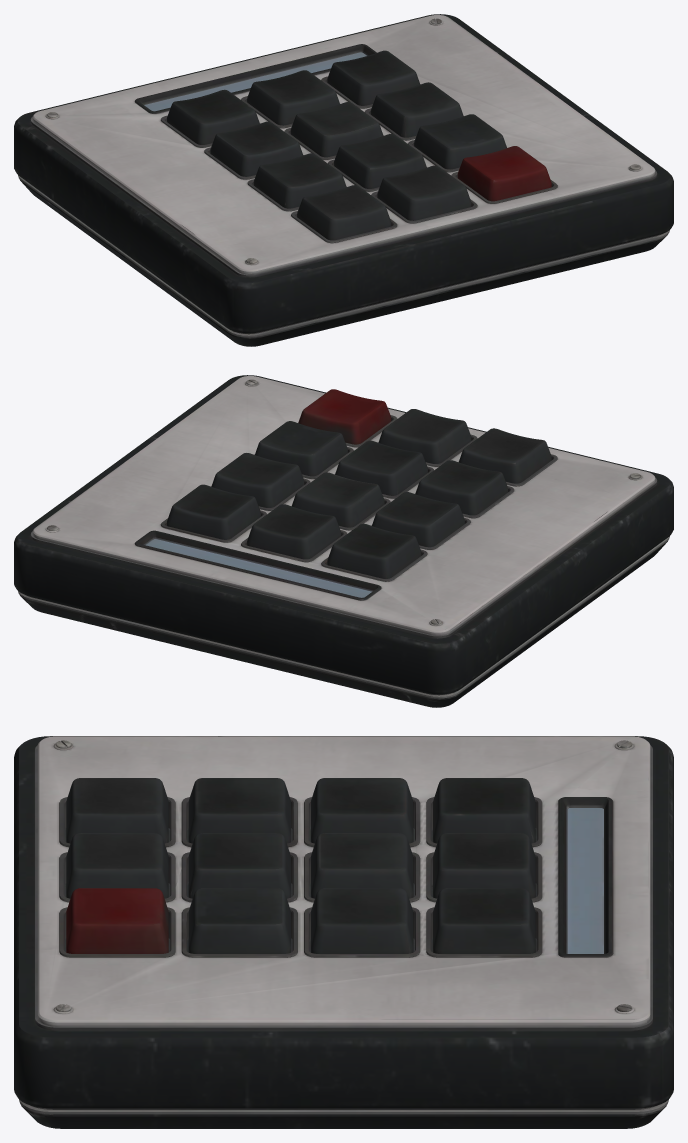
The model's file is tastierino.glb.
3 views of the same model, one above another, from view 1: azimuth 30°, elevation 25°; view 2: azimuth 150°, elevation 25°; view 3: azimuth 270°, elevation 25° (orthographic). The views are drawn at different scales.
Visible parts, largest first — view 1: Faceplate • linished aluminium, Upper shell • rolled shoulder and return flange, Lower pan • drawn steel, Key_10, Key_12, Key_11, Key_06, Key_03, Key_02, Key_09, Key_04, Key_07 (+8 smaller); view 2: Faceplate • linished aluminium, Upper shell • rolled shoulder and return flange, Lower pan • drawn steel, Key_01, Key_02, Key_03, Key_12, Key_05, Key_10, Key_09, Key_07, Key_08 (+8 smaller); view 3: Faceplate • linished aluminium, Upper shell • rolled shoulder and return flange, Lower pan • drawn steel, Key_03, Key_06, Key_12, Key_09, Key_05, Key_11, Key_08, Key_02, Key_07 (+21 smaller).
Part boxes in pixels (bbox=[...]): Faceplate • linished aluminium: bbox=[32, 15, 655, 274]; Upper shell • rolled shoulder and return flange: bbox=[14, 14, 673, 333]; Lower pan • drawn steel: bbox=[19, 179, 667, 346]; Key_10: bbox=[297, 185, 391, 240]; Key_12: bbox=[457, 146, 551, 201]; Key_11: bbox=[377, 165, 471, 220]; Key_06: bbox=[370, 82, 463, 137]; Key_03: bbox=[327, 50, 420, 105]; Key_02: bbox=[247, 70, 339, 125]; Key_09: bbox=[414, 114, 506, 169]; Key_04: bbox=[210, 121, 303, 176]; Key_07: bbox=[253, 153, 346, 208]; Faceplate • linished aluminium: bbox=[32, 376, 655, 635]; Upper shell • rolled shoulder and return flange: bbox=[14, 375, 673, 694]; Lower pan • drawn steel: bbox=[20, 540, 668, 707]; Key_01: bbox=[327, 523, 421, 578]; Key_02: bbox=[247, 504, 341, 559]; Key_03: bbox=[167, 484, 260, 539]; Key_12: bbox=[298, 389, 391, 444]; Key_05: bbox=[292, 472, 384, 527]; Key_10: bbox=[459, 428, 551, 483]; Key_09: bbox=[255, 421, 347, 476]; Key_07: bbox=[415, 460, 508, 515]; Key_08: bbox=[335, 440, 427, 495]; Faceplate • linished aluminium: bbox=[37, 736, 650, 1026]; Upper shell • rolled shoulder and return flange: bbox=[14, 736, 673, 1108]; Lower pan • drawn steel: bbox=[21, 1105, 666, 1128]; Key_03: bbox=[433, 888, 535, 953]; Key_06: bbox=[311, 888, 413, 953]; Key_12: bbox=[66, 888, 168, 953]; Key_09: bbox=[188, 888, 290, 953]; Key_05: bbox=[311, 833, 413, 898]; Key_11: bbox=[66, 833, 168, 898]; Key_08: bbox=[188, 833, 290, 898]; Key_02: bbox=[433, 833, 535, 898]; Key_07: bbox=[188, 778, 290, 843].
Size of the model in its own units: 2 by 0.4348 by 1.83.
1 material, 1 textured.
